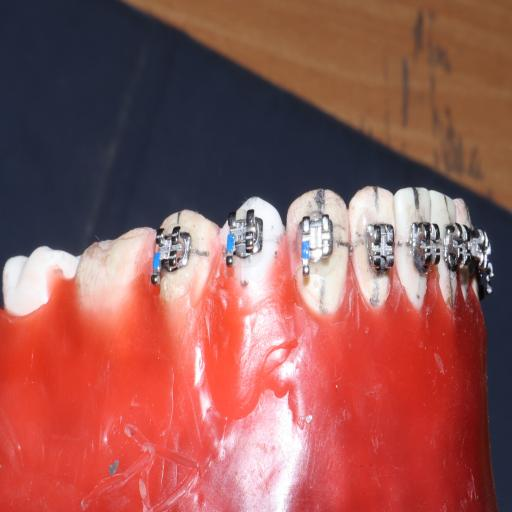incorrect_brace: (294, 211, 335, 286)
